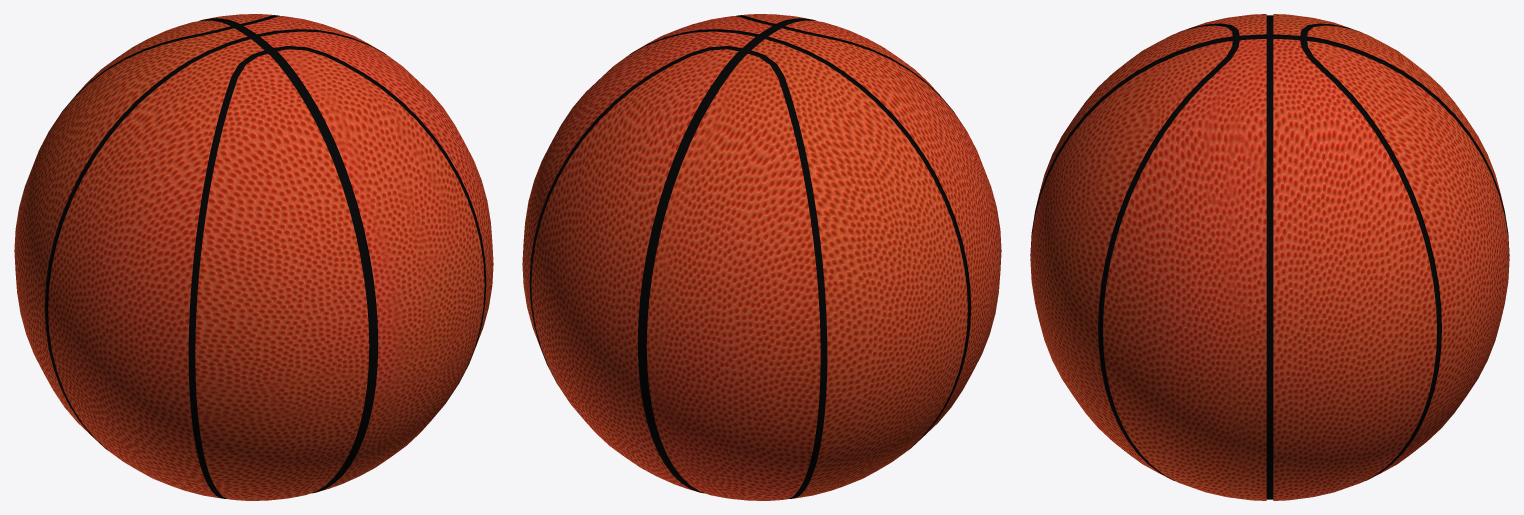
Rendered from basketball.fbx.
3 views of the same model, side by side, from view 1: azimuth 30°, elevation 25°; view 2: azimuth 150°, elevation 25°; view 3: azimuth 270°, elevation 25° (orthographic).
Visible parts, largest first — view 1: basketball; view 2: basketball; view 3: basketball.
Boxes of the visible parts, box(x1,y1,x2,y2) form: basketball: box(14, 14, 493, 500); basketball: box(522, 14, 1001, 500); basketball: box(1030, 14, 1509, 500).
Bounding box in the file's own units: 29.41 × 29.89 × 29.38.
